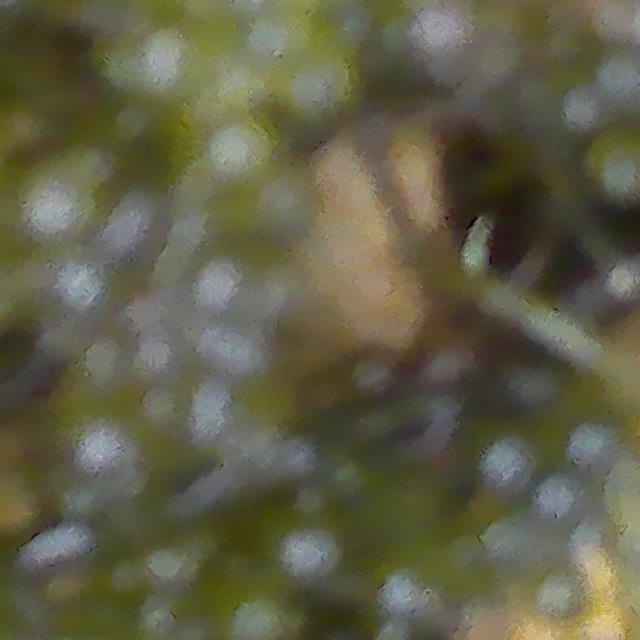SeaGrape: (141, 19, 219, 103), (245, 166, 321, 250), (582, 122, 640, 212), (202, 128, 273, 187), (479, 437, 535, 492)
